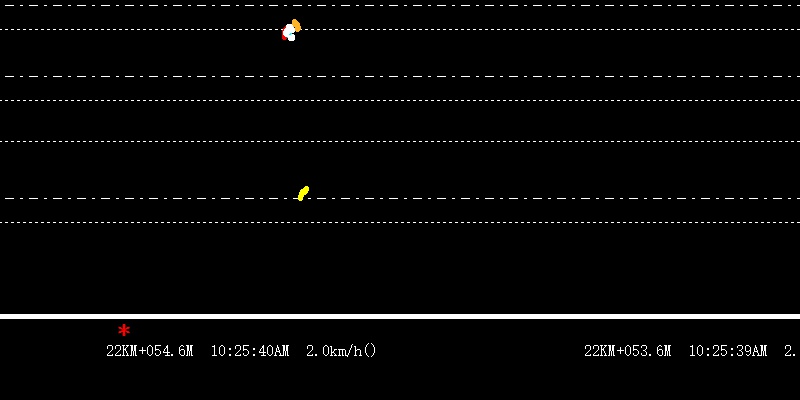face_2: (281, 17, 301, 42)
star: (115, 321, 132, 337)
